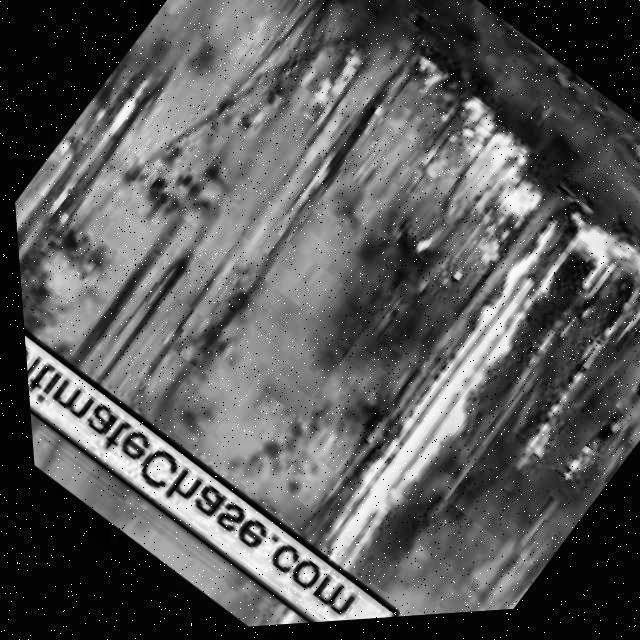Fire: (283, 204, 625, 578), (436, 111, 554, 228), (624, 276, 640, 369)
Smoke: (8, 111, 406, 541), (68, 0, 499, 286), (20, 328, 410, 640)
